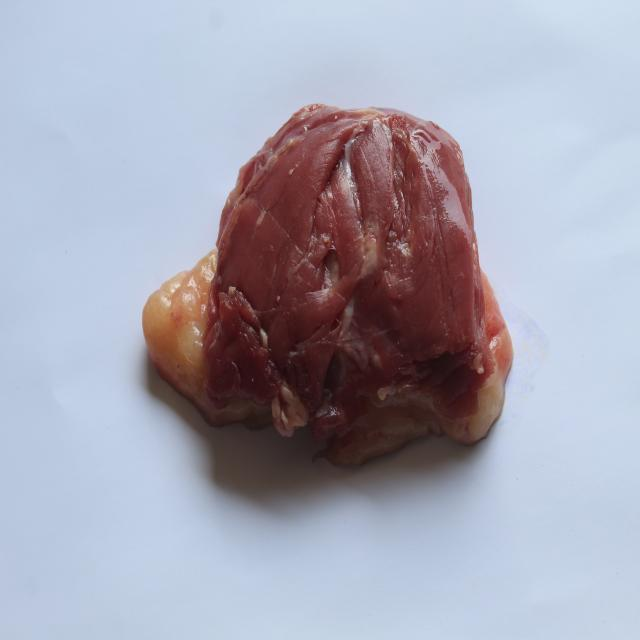Beef: (142, 70, 545, 496)
